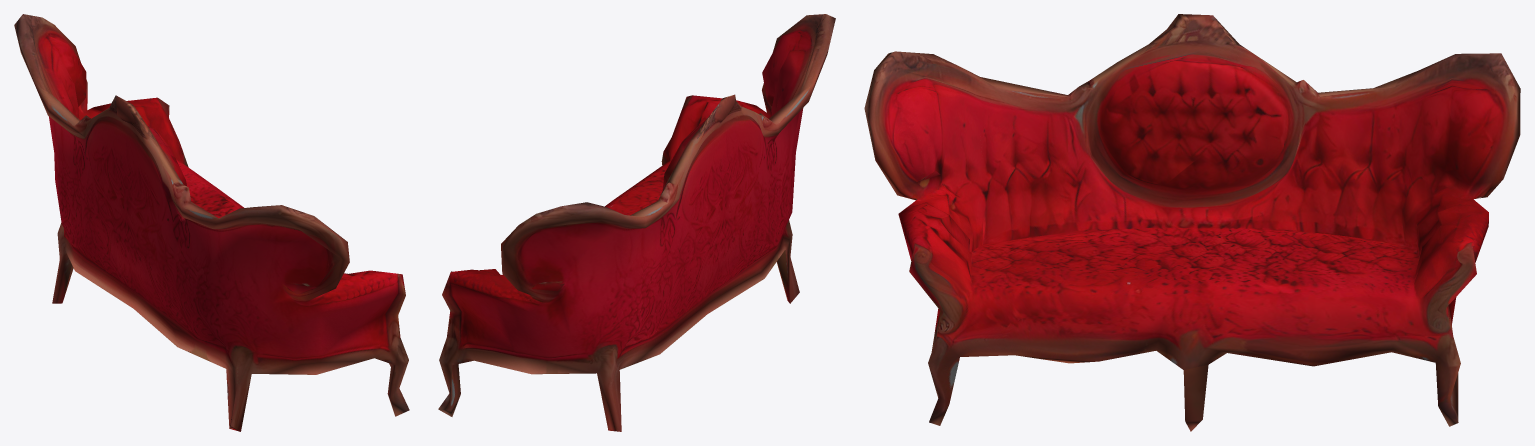
Rendered from victorian_sofa.glb.
3 views of the same model, side by side, from view 1: azimuth 30°, elevation 25°; view 2: azimuth 150°, elevation 25°; view 3: azimuth 270°, elevation 25° (orthographic). The views are drawn at different scales.
Parts seen in each view (by area): view 1: tripo_node_862b2dc5-91cf-4d52-b367-0f72a4318555_tripo_materi; view 2: tripo_node_862b2dc5-91cf-4d52-b367-0f72a4318555_tripo_materi; view 3: tripo_node_862b2dc5-91cf-4d52-b367-0f72a4318555_tripo_materi.
Part boxes in pixels (x1,y1,x2,y2): tripo_node_862b2dc5-91cf-4d52-b367-0f72a4318555_tripo_materi: (14,14,409,431); tripo_node_862b2dc5-91cf-4d52-b367-0f72a4318555_tripo_materi: (438,14,835,431); tripo_node_862b2dc5-91cf-4d52-b367-0f72a4318555_tripo_materi: (864,14,1520,431).
Bounding box in the file's own units: 3.85 × 5.73 × 10.65.
Materials: 1 (1 with a texture image).
